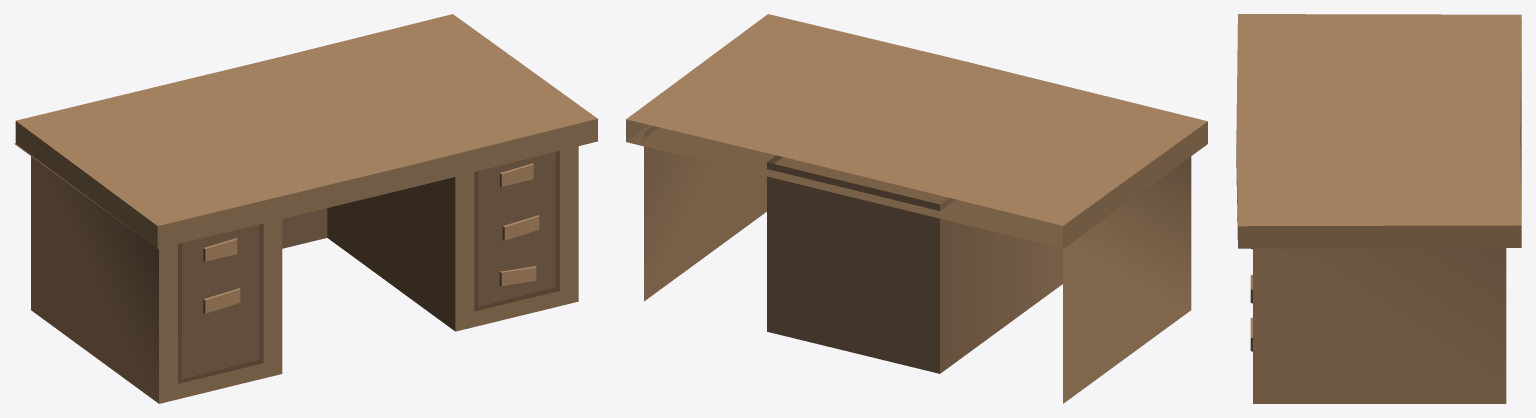
File: MSH_QuestObject_table_04.fbx
3 views of the same model, side by side, from view 1: azimuth 30°, elevation 25°; view 2: azimuth 150°, elevation 25°; view 3: azimuth 270°, elevation 25° (orthographic).
Parts seen in each view (by area): view 1: MSH_QuestObject_table_04; view 2: MSH_QuestObject_table_04; view 3: MSH_QuestObject_table_04.
Boxes of the visible parts, x1,y1,x2,y2 form: MSH_QuestObject_table_04: (14,14,597,403); MSH_QuestObject_table_04: (626,14,1207,403); MSH_QuestObject_table_04: (1236,14,1521,403).
Size of the model in its own units: 3.86 by 1.56 by 2.19.
